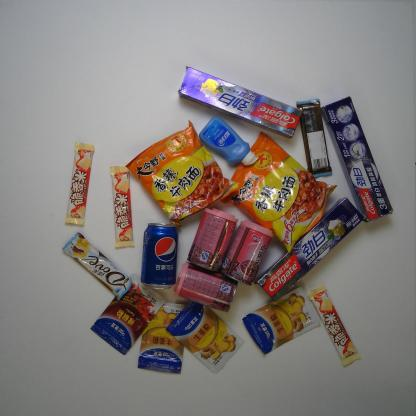Canned Food: (185, 202, 241, 274), (220, 217, 276, 288), (170, 260, 240, 316)
Chocolate: (60, 231, 137, 304), (305, 283, 362, 369), (293, 95, 333, 180), (62, 138, 96, 228), (107, 158, 135, 250)
Drink: (136, 220, 183, 294)
Instant Noodles: (207, 127, 340, 258), (121, 116, 243, 229)
Personal Hygiene: (252, 193, 366, 308), (176, 64, 305, 145), (318, 92, 395, 226), (195, 112, 261, 170)
Seasoner: (86, 272, 167, 358), (164, 295, 246, 378), (241, 282, 326, 360), (133, 301, 189, 376)
